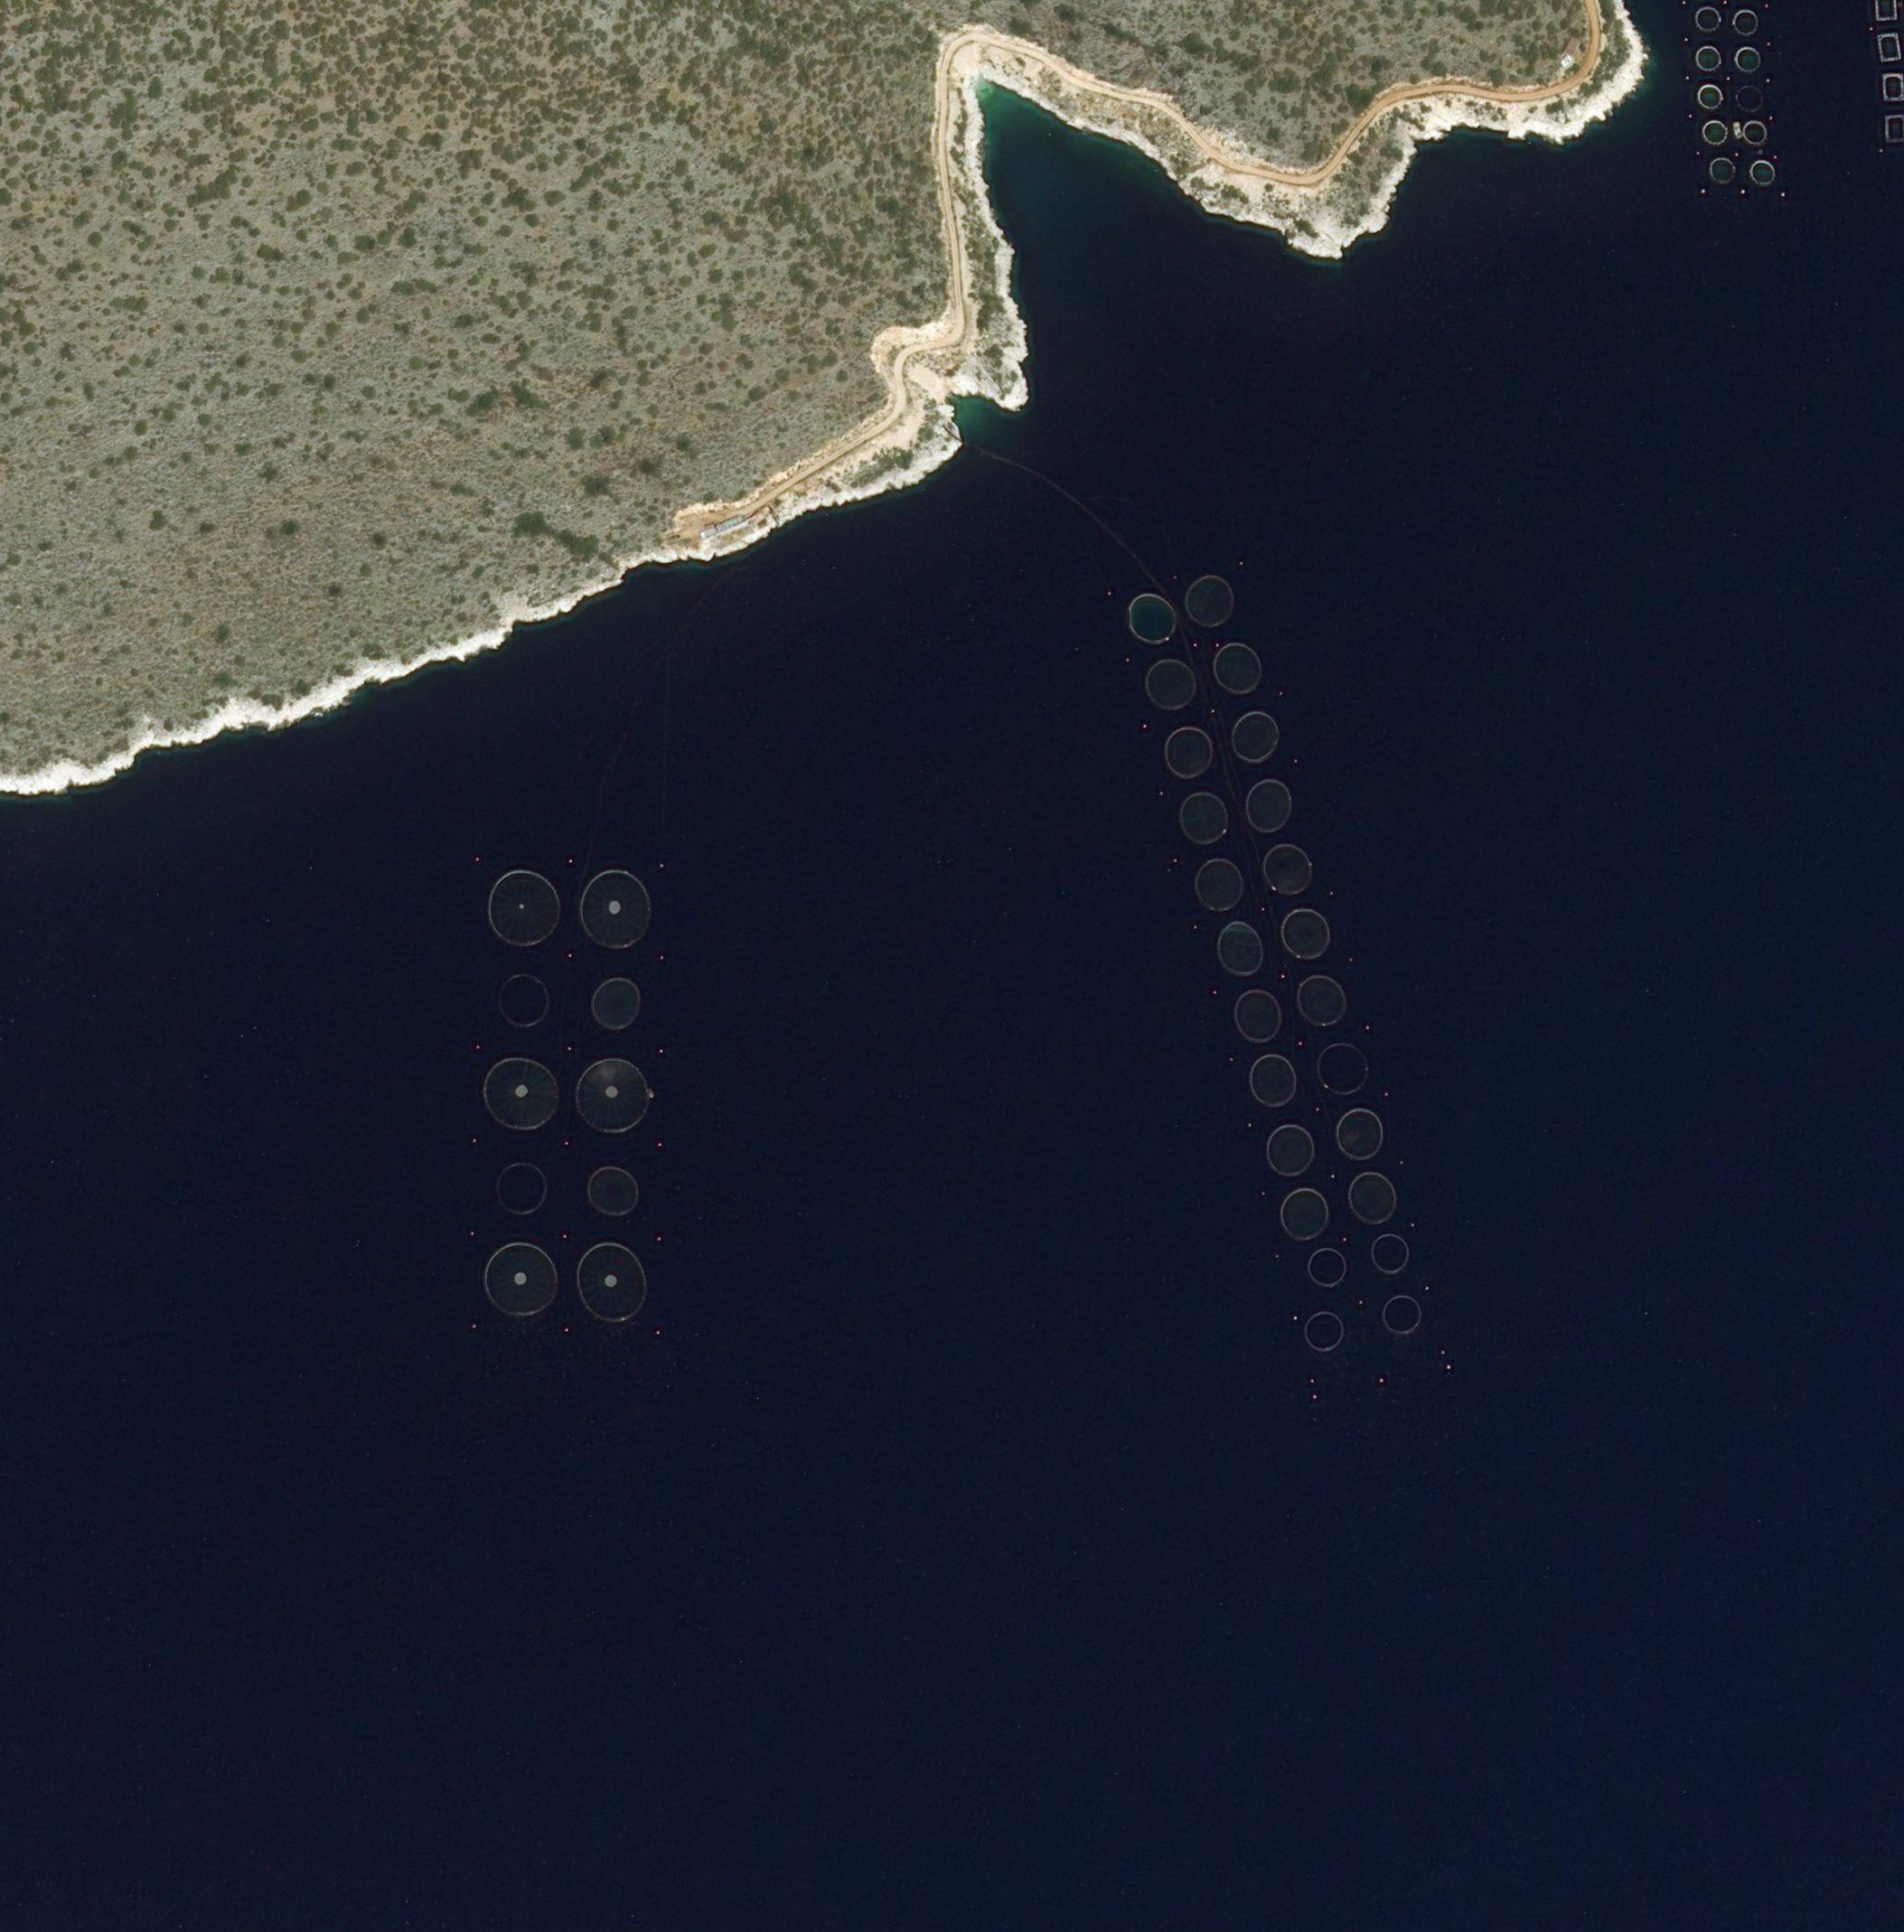c: (575, 865, 654, 950), (485, 865, 563, 949), (481, 1055, 561, 1133), (572, 1057, 650, 1135), (481, 1240, 558, 1318), (575, 1242, 647, 1322), (588, 975, 643, 1032), (1245, 1051, 1299, 1111), (492, 1160, 547, 1215), (497, 971, 551, 1029), (1212, 921, 1264, 980), (1182, 568, 1233, 628), (1142, 657, 1198, 710), (1316, 1041, 1369, 1097), (586, 1165, 638, 1219), (1163, 725, 1215, 779), (1212, 640, 1262, 696), (1125, 593, 1177, 645), (1264, 1125, 1316, 1177), (1278, 1189, 1330, 1242), (1179, 792, 1229, 846), (1261, 842, 1311, 896), (1278, 907, 1329, 961), (1295, 973, 1346, 1027), (1233, 989, 1282, 1044), (1336, 1104, 1384, 1160), (1348, 1168, 1397, 1224), (1233, 708, 1280, 764), (1245, 776, 1290, 833), (1194, 858, 1243, 910), (1304, 1247, 1348, 1289), (1370, 1233, 1412, 1276), (1302, 1311, 1344, 1351), (1379, 1294, 1421, 1334)
